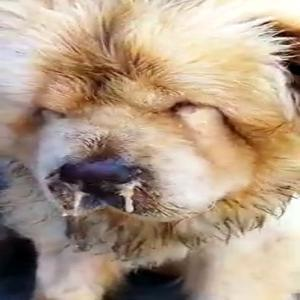nasal_discharge: (56, 152, 145, 216)
